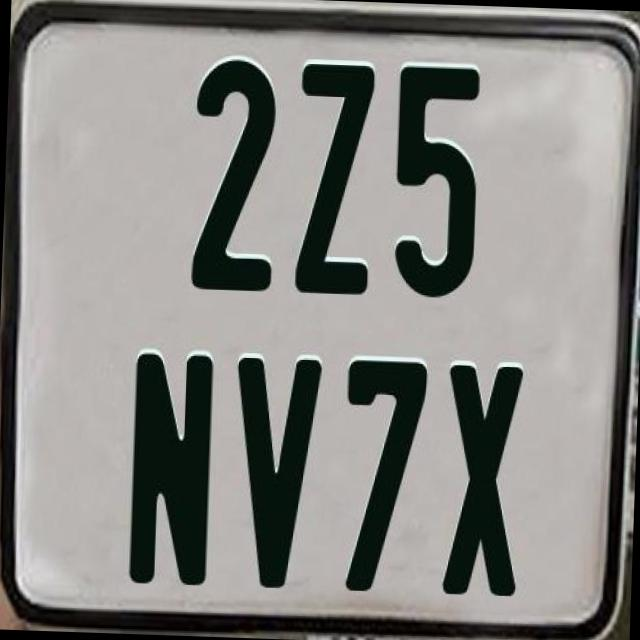2: (190, 54, 285, 290)
5: (392, 65, 484, 303)
7: (340, 354, 434, 598)
N: (127, 350, 216, 592)
V: (228, 352, 320, 594)
X: (440, 362, 524, 594)
Z: (294, 61, 374, 294)
